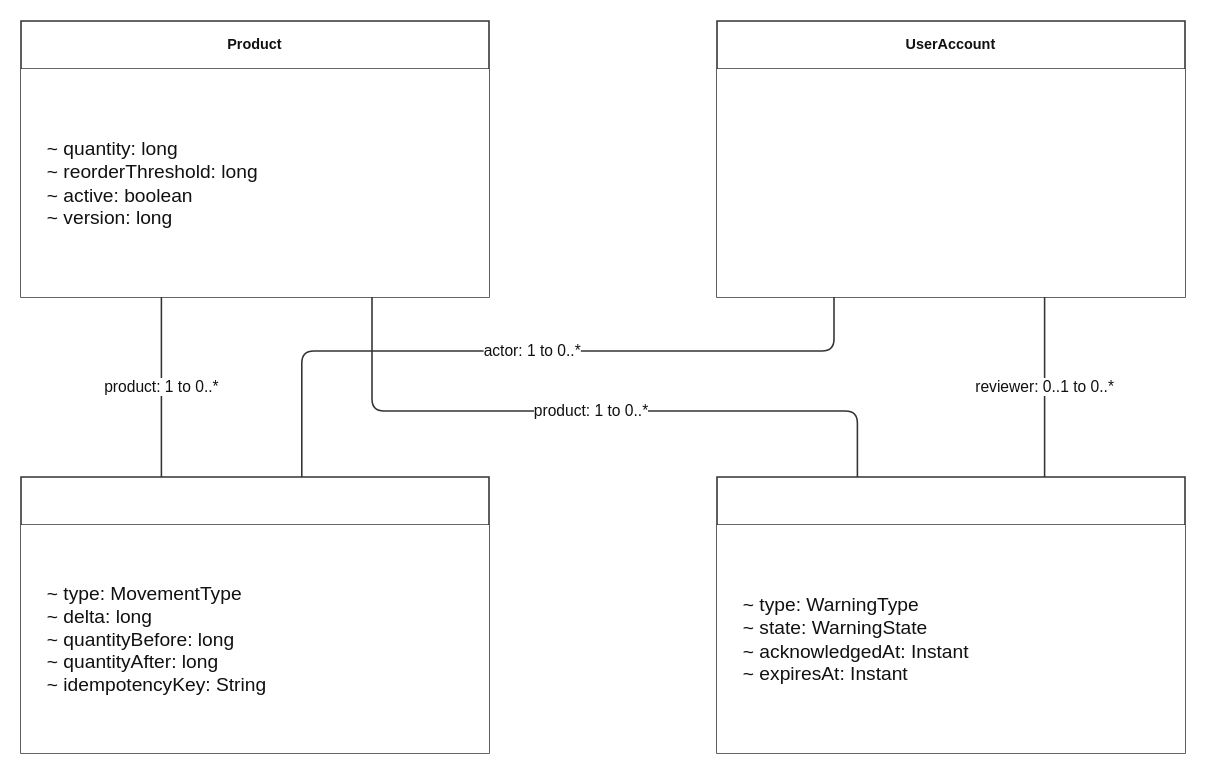
Some shapes in this 1207 by 775 pixel diagram are drawn without their labels. Here are the shapes that lost their labels. From the top down, the box of each, then its label:
(716, 68, 1184, 296): ~ username: String ~ role: Role ~ enabled: boolean
(20, 476, 489, 753): InventoryTransaction
(716, 476, 1185, 753): WarningEpisode
